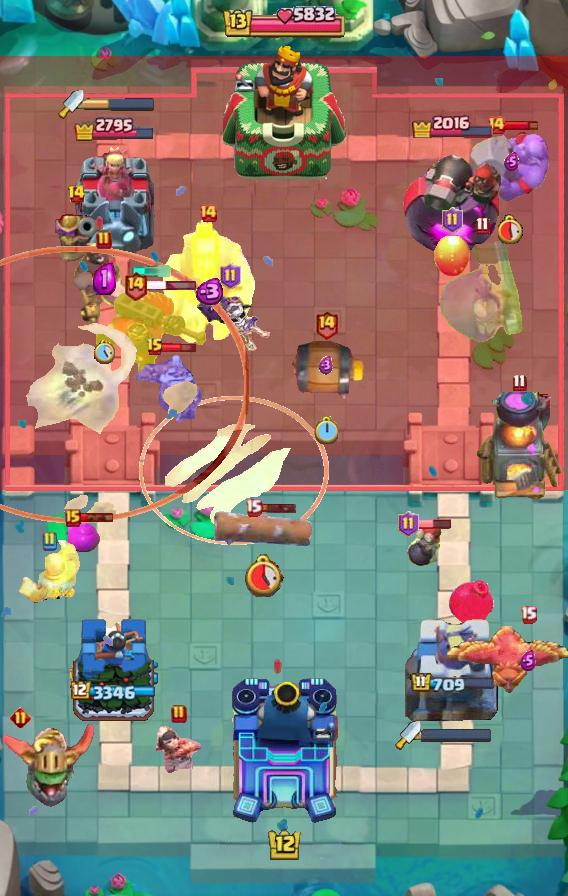archer-queen: (467, 128, 555, 204)
baby-dragon: (448, 578, 494, 623)
bar: (405, 611, 501, 731), (70, 142, 158, 256)
bomb-tower: (55, 209, 97, 277)
clock: (221, 3, 347, 43)
electro-spirit: (191, 279, 225, 306), (93, 263, 116, 295), (520, 649, 536, 671), (504, 153, 519, 172), (319, 357, 333, 375)
elixir: (242, 553, 284, 597), (498, 214, 524, 244), (314, 416, 338, 444), (94, 340, 115, 364)
elixir-collector: (133, 352, 203, 424)
emote: (145, 280, 197, 291), (504, 119, 540, 133), (162, 342, 197, 355), (260, 502, 297, 514), (78, 512, 114, 524), (416, 518, 452, 530)
firecracker: (19, 540, 81, 604)
freeze: (72, 239, 136, 325)
giant-skeleton: (160, 218, 256, 346)
goblin-ball: (188, 283, 272, 353)
hog: (432, 234, 472, 278)
hunter: (475, 392, 563, 502)
ice-golem: (404, 520, 444, 568)
ice-spirit: (130, 265, 172, 277)
ice-wizard: (139, 396, 329, 545)
inferno-tower: (95, 290, 207, 378)
king-tower: (223, 43, 345, 181), (228, 676, 340, 826)
king-tower-bar: (84, 97, 156, 111), (421, 728, 493, 742)
miner: (68, 522, 100, 552)
minion: (212, 506, 314, 550)
mother-witch: (444, 626, 568, 700)
night-witch: (0, 721, 96, 809)
queen-tower: (70, 616, 158, 731)
royal-ghost: (0, 245, 248, 522)
selected: (411, 112, 495, 138), (72, 115, 155, 141), (410, 672, 496, 696), (70, 681, 157, 703)
skeleton-dragon: (153, 723, 205, 775)
text: (124, 270, 149, 301), (314, 308, 339, 339), (442, 207, 463, 233), (220, 263, 241, 289), (398, 511, 419, 537), (9, 707, 30, 728), (486, 115, 506, 135), (198, 203, 218, 223), (67, 184, 86, 204), (146, 337, 164, 357), (245, 498, 263, 517), (96, 230, 112, 250), (41, 531, 57, 551), (171, 704, 187, 724), (519, 605, 536, 623), (65, 509, 81, 527), (475, 217, 490, 235), (513, 372, 527, 391)
the-log: (286, 341, 366, 401)
tower-bar: (403, 138, 503, 256)
wall-breaker-evolution: (440, 227, 524, 345)
